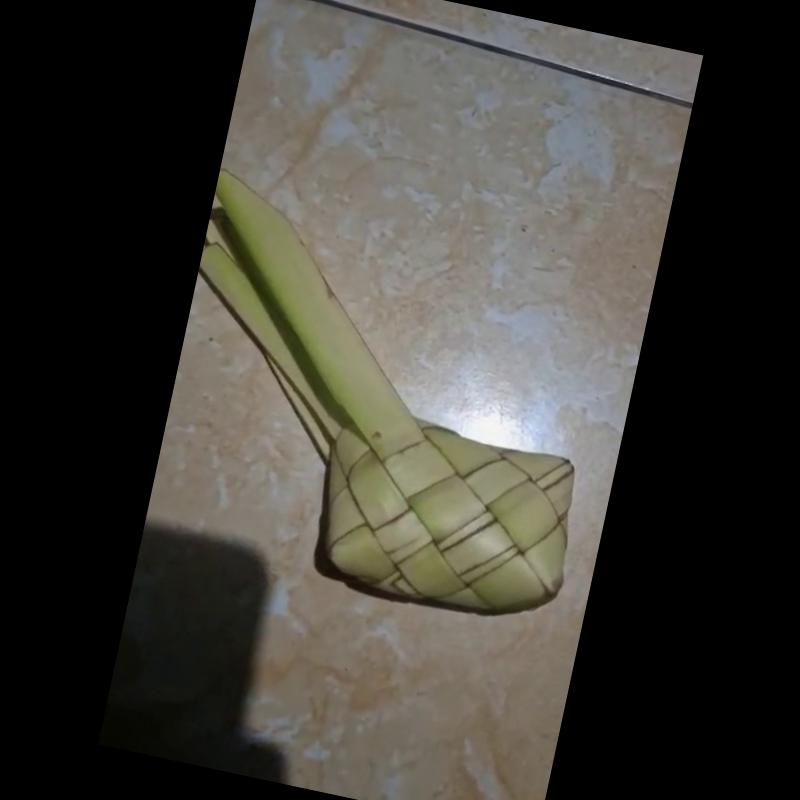Tipat Bantal: (200, 168, 576, 631)
